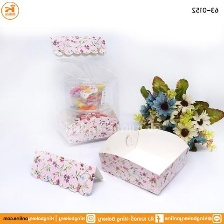snack: (42, 28, 125, 150)
